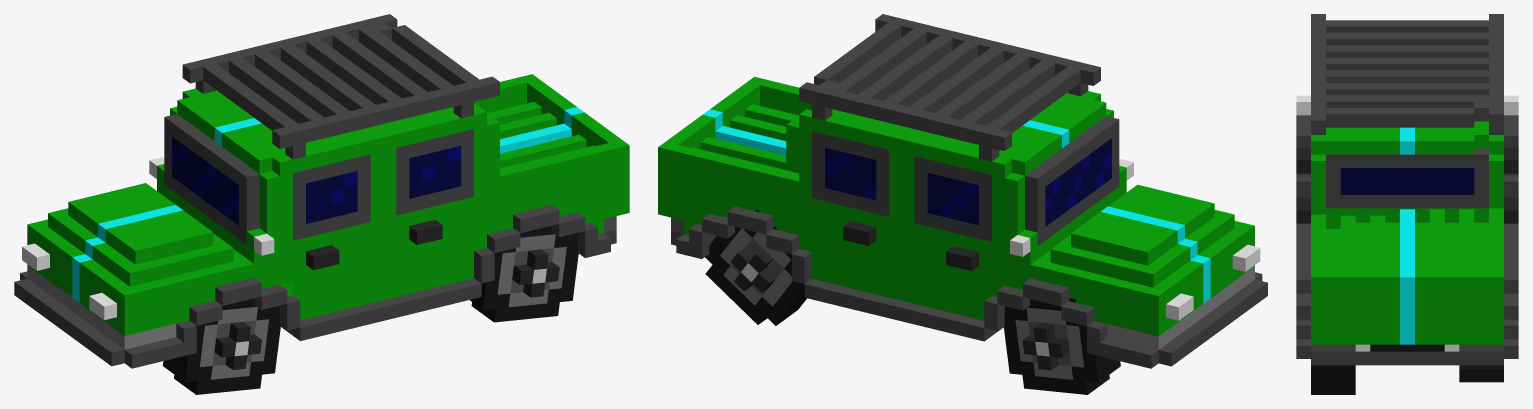
Rendered from auto.glb.
The picture shows the model from 3 angles, left to right: view 1: azimuth 30°, elevation 25°; view 2: azimuth 150°, elevation 25°; view 3: azimuth 270°, elevation 25°; orthographic projection.
Parts seen in each view (by area): view 1: Untitled.005, Untitled.001, Untitled.002; view 2: Untitled.005, Untitled.003, Untitled; view 3: Untitled.005, Untitled.002, Untitled.
Part boxes in pixels (x1,y1,x2,y2): Untitled.005: [14, 14, 629, 368]; Untitled.001: [162, 298, 280, 394]; Untitled.002: [470, 225, 578, 322]; Untitled.005: [658, 14, 1267, 368]; Untitled.003: [1003, 298, 1120, 394]; Untitled: [705, 209, 806, 325]; Untitled.005: [1296, 14, 1518, 365]; Untitled.002: [1311, 365, 1355, 394]; Untitled: [1459, 365, 1503, 382].
Size of the model in its own units: 4 by 1.84 by 1.5.
Materials: 5 (5 with a texture image).
